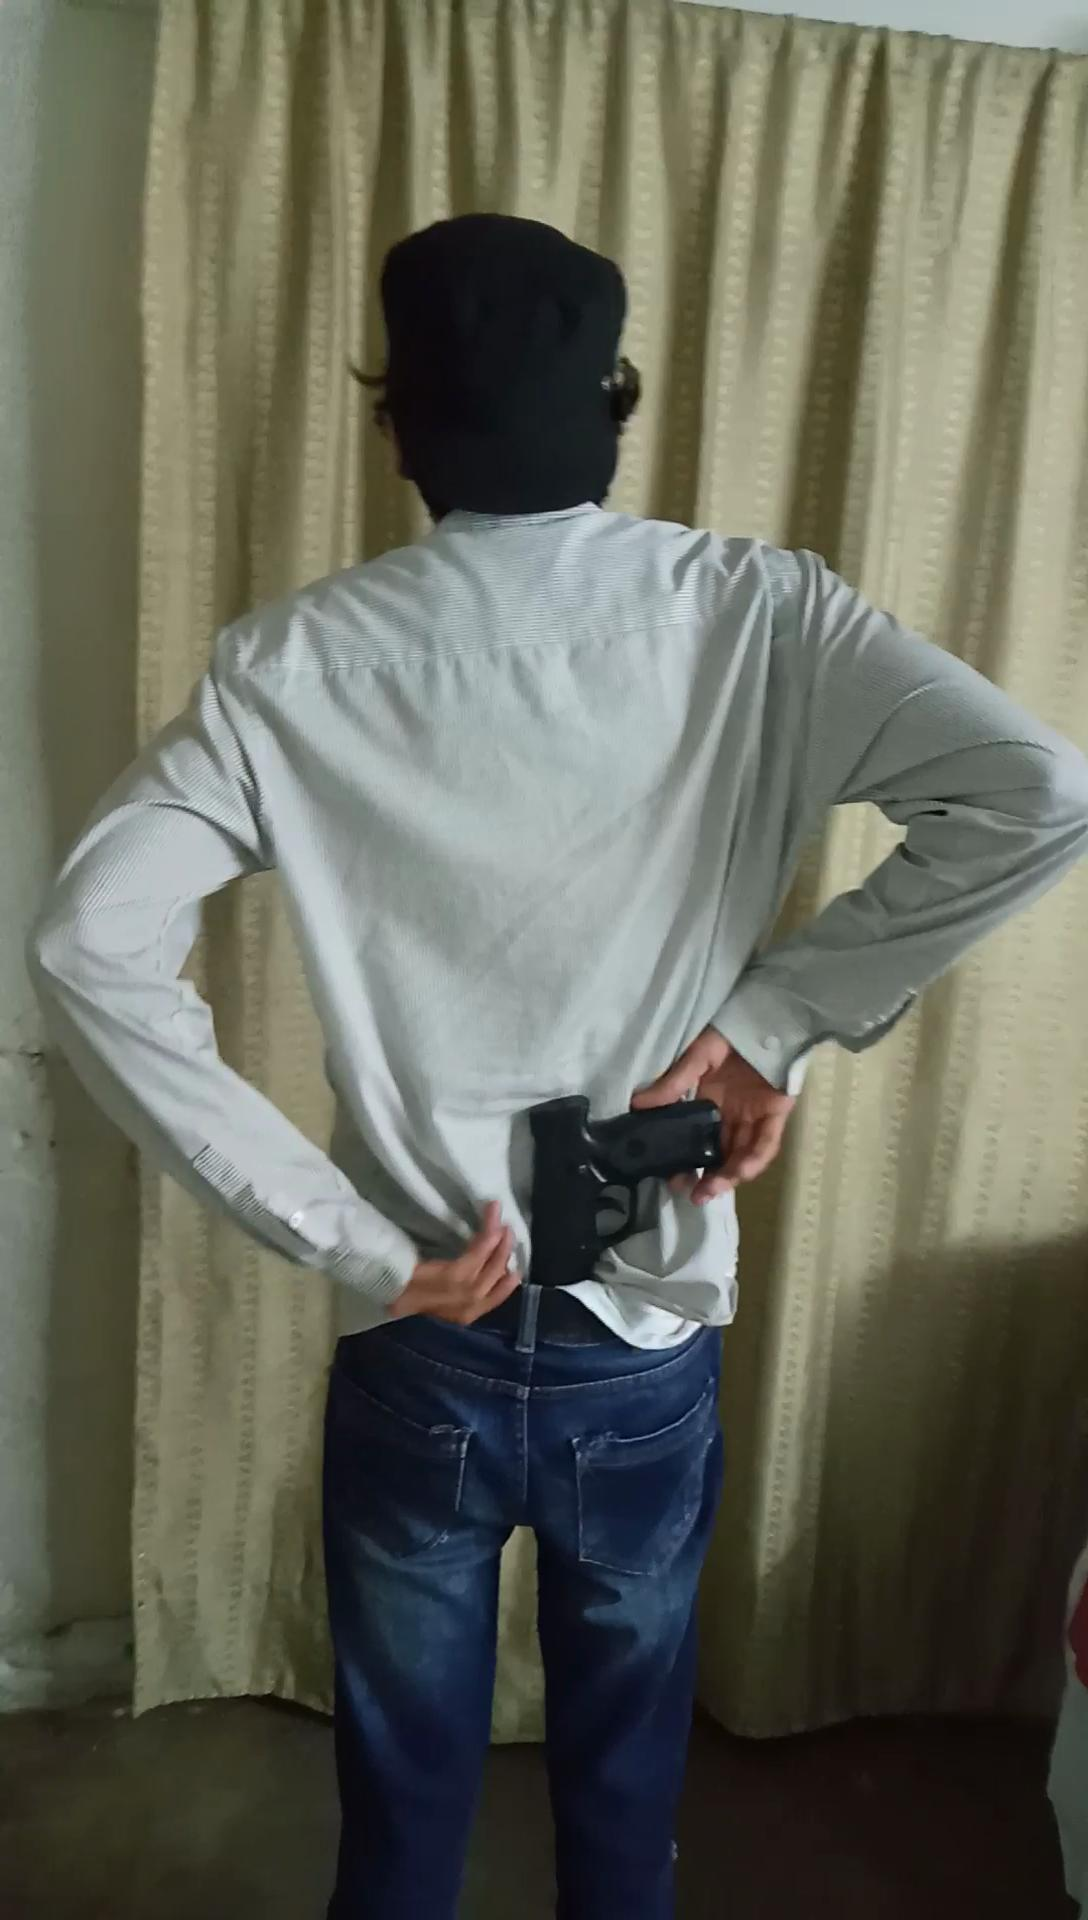weapon: (500, 1076, 741, 1309)
